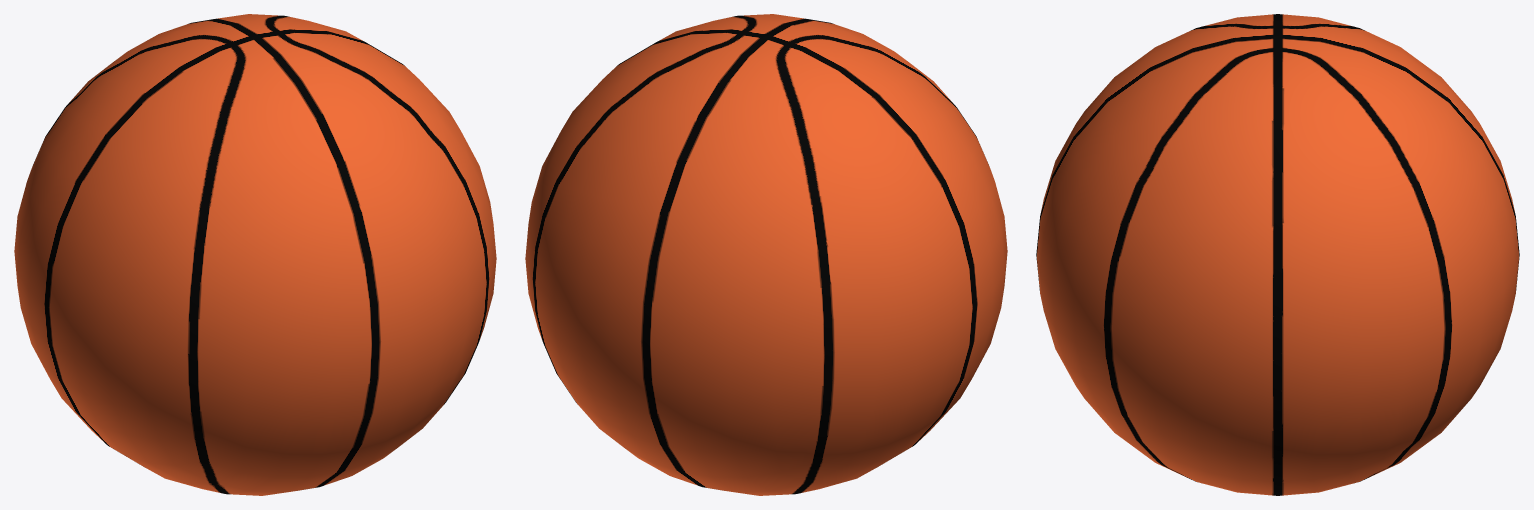
File: basketball.glb
3 views of the same model, side by side, from view 1: azimuth 30°, elevation 25°; view 2: azimuth 150°, elevation 25°; view 3: azimuth 270°, elevation 25° (orthographic).
Visible parts, largest first — view 1: basketball_low_poly; view 2: basketball_low_poly; view 3: basketball_low_poly.
Boxes of the visible parts, x1=… form: basketball_low_poly: x1=14, y1=14, x2=496, y2=495; basketball_low_poly: x1=525, y1=14, x2=1007, y2=495; basketball_low_poly: x1=1036, y1=14, x2=1519, y2=495.
Bounding box in the file's own units: 2 × 2 × 2.
1 material, 1 textured.
